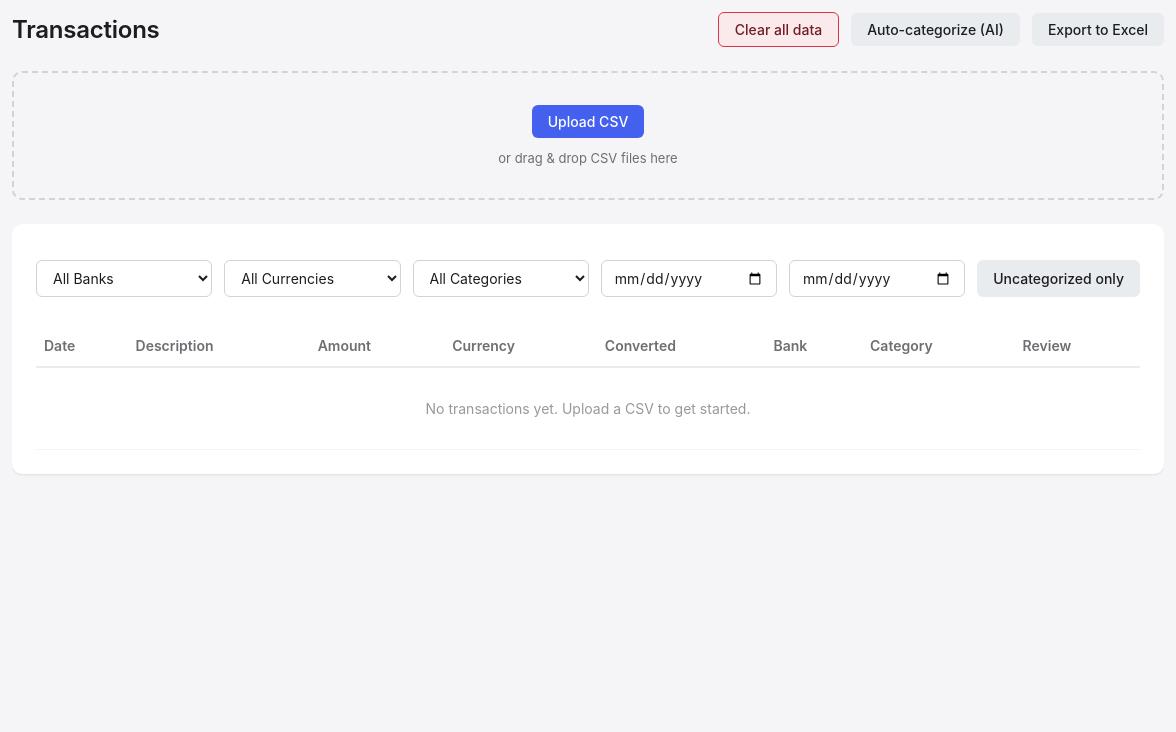
TransactionsPage › shows the clear-all button when enabled and clears after confirm
The width and height of the screenshot is (1176, 732).
Click the button "Clear all data": x=778, y=30 left=718, top=12, right=839, bottom=47
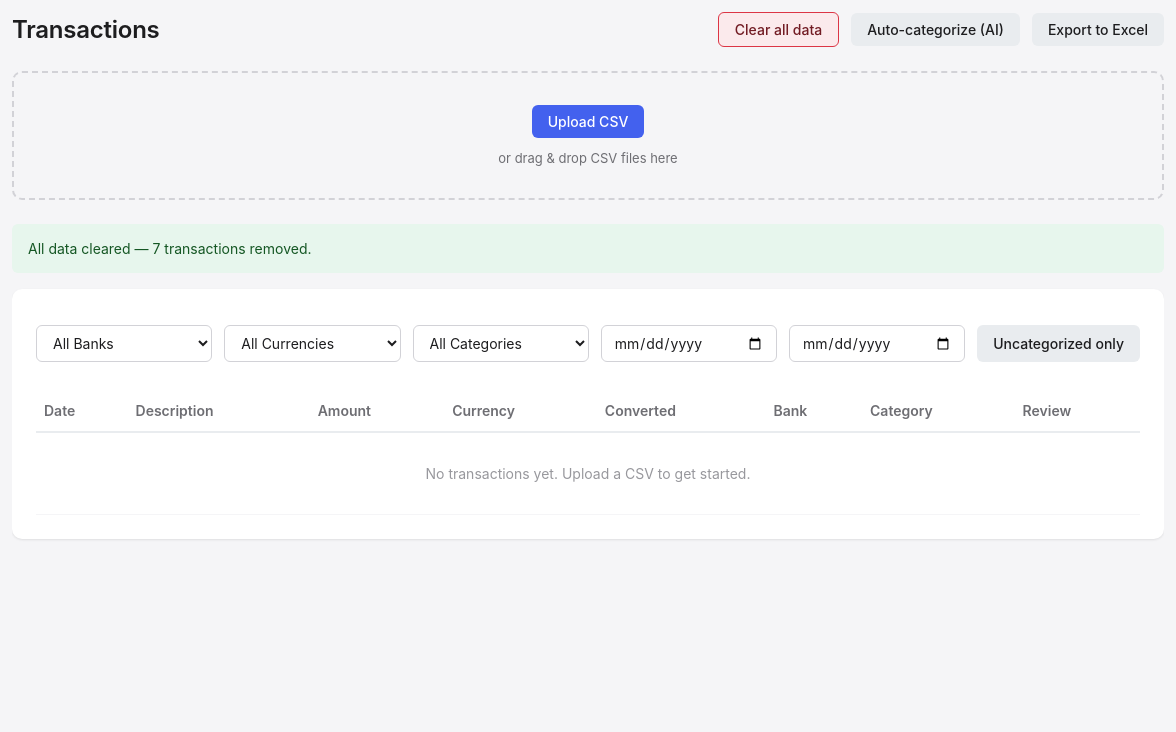
Expected: the text "All data cleared — 7 transactions removed." is shown, left=28, top=240, right=312, bottom=257
